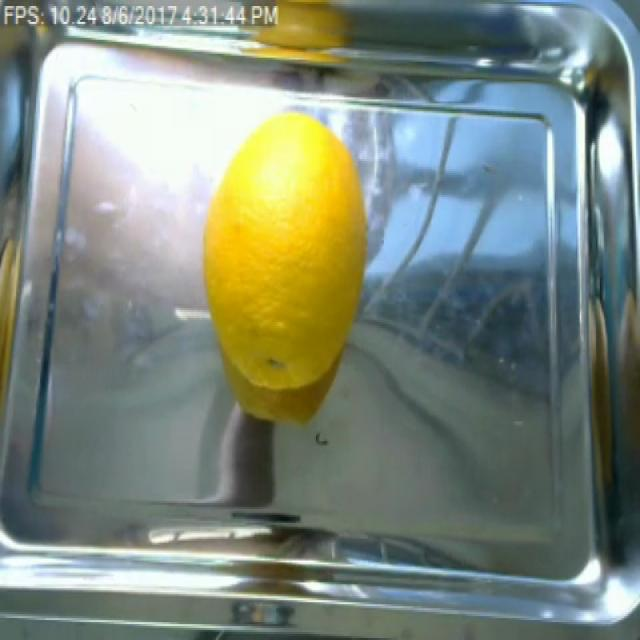Fruit: (192, 106, 372, 432), (235, 0, 364, 60)
